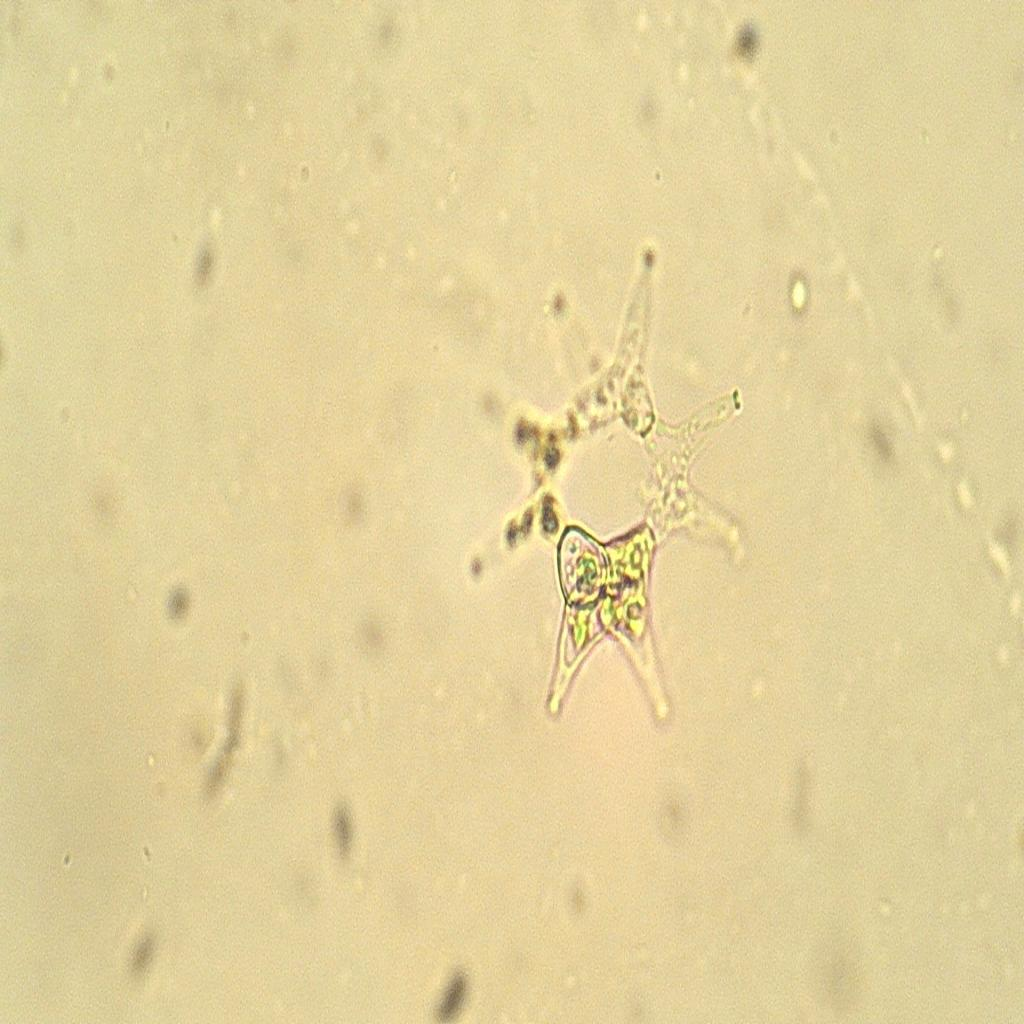Pediastrum_1F0: (427, 228, 790, 786)
